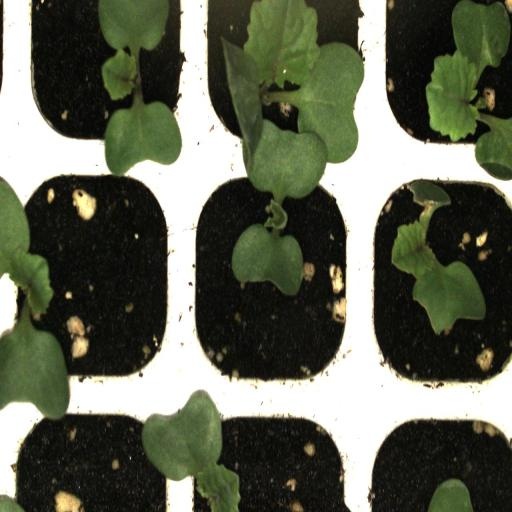seedling: (182, 165, 365, 399), (0, 166, 182, 399), (365, 163, 512, 402), (16, 0, 198, 162), (198, 0, 373, 160), (365, 0, 512, 160)
